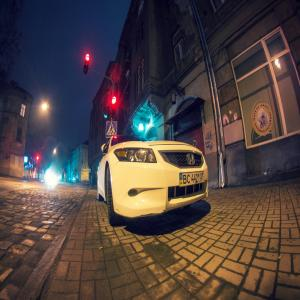Vehicle-registration-plate: (180, 171, 205, 188)
